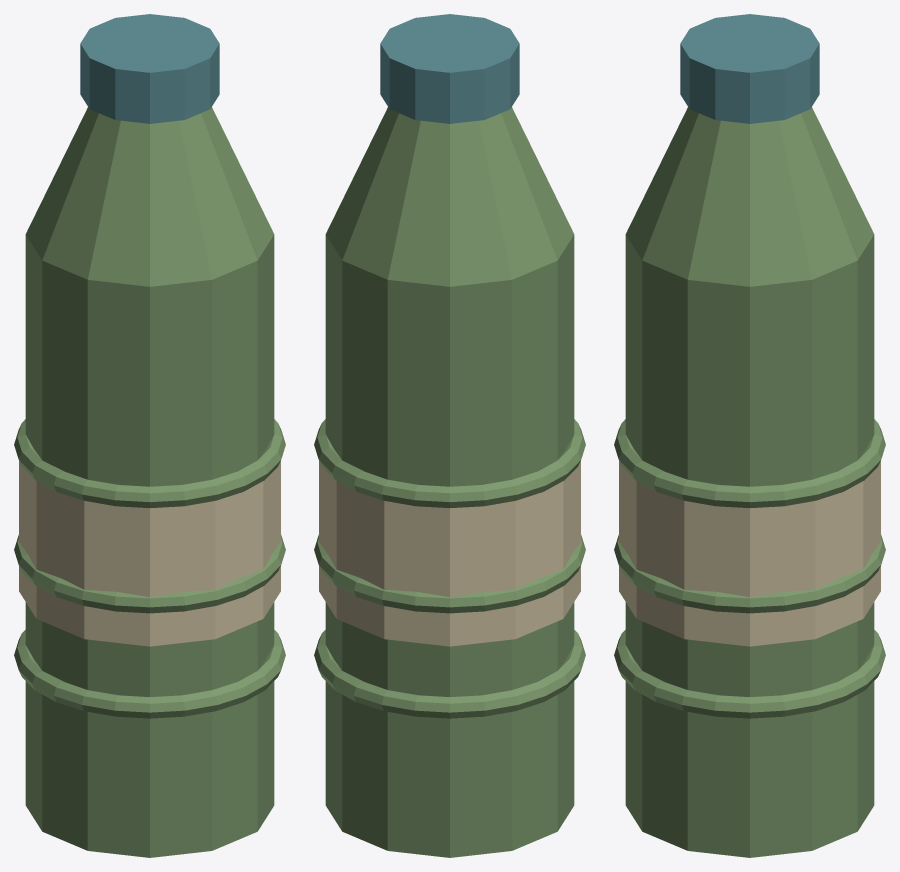
The model's file is Bottle_Green.glb.
3 renders of one model, left to right at view 1: azimuth 30°, elevation 25°; view 2: azimuth 150°, elevation 25°; view 3: azimuth 270°, elevation 25°, orthographic.
Visible parts, largest first — view 1: Litter; view 2: Litter; view 3: Litter.
Boxes of the visible parts, x1=… form: Litter: x1=14, y1=14, x2=285, y2=857; Litter: x1=314, y1=14, x2=585, y2=857; Litter: x1=614, y1=14, x2=885, y2=857.
Size of the model in its own units: 0.164 by 0.507 by 0.164.
